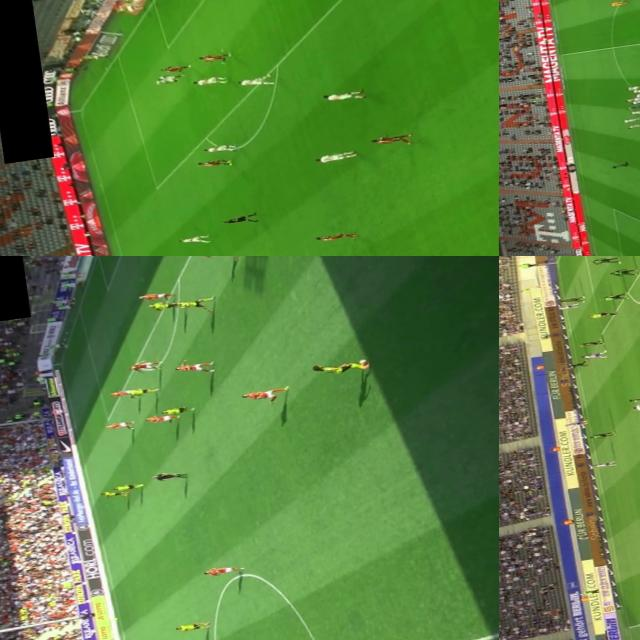ball: (355, 356, 370, 364), (151, 78, 163, 85), (570, 422, 576, 425)
player: (307, 356, 369, 380), (240, 385, 287, 402), (370, 130, 414, 148), (313, 148, 355, 166), (135, 286, 180, 302), (314, 228, 357, 244), (172, 360, 219, 374), (200, 562, 247, 576), (175, 296, 220, 310), (170, 620, 212, 634), (194, 49, 233, 64), (174, 232, 213, 247), (126, 358, 166, 372), (200, 140, 238, 154), (322, 88, 366, 100), (194, 73, 231, 86), (195, 155, 232, 168), (148, 298, 185, 311), (106, 386, 141, 399), (238, 74, 275, 86), (159, 404, 196, 416), (156, 62, 192, 74), (142, 412, 180, 423), (126, 386, 160, 398), (609, 266, 639, 278), (101, 420, 136, 430), (96, 488, 129, 498), (154, 72, 181, 84), (580, 350, 612, 360), (112, 482, 143, 492), (598, 292, 627, 302), (552, 300, 578, 311), (592, 458, 616, 468), (577, 339, 606, 347), (560, 293, 583, 303), (566, 360, 590, 369), (564, 418, 588, 427), (591, 256, 614, 265), (626, 393, 640, 403), (622, 116, 640, 122), (624, 95, 640, 101), (625, 104, 640, 110), (626, 84, 640, 90), (612, 0, 628, 5), (628, 121, 640, 127), (632, 401, 640, 410), (629, 107, 640, 113), (632, 87, 640, 92), (631, 99, 640, 103), (632, 96, 640, 100), (633, 92, 640, 96)
